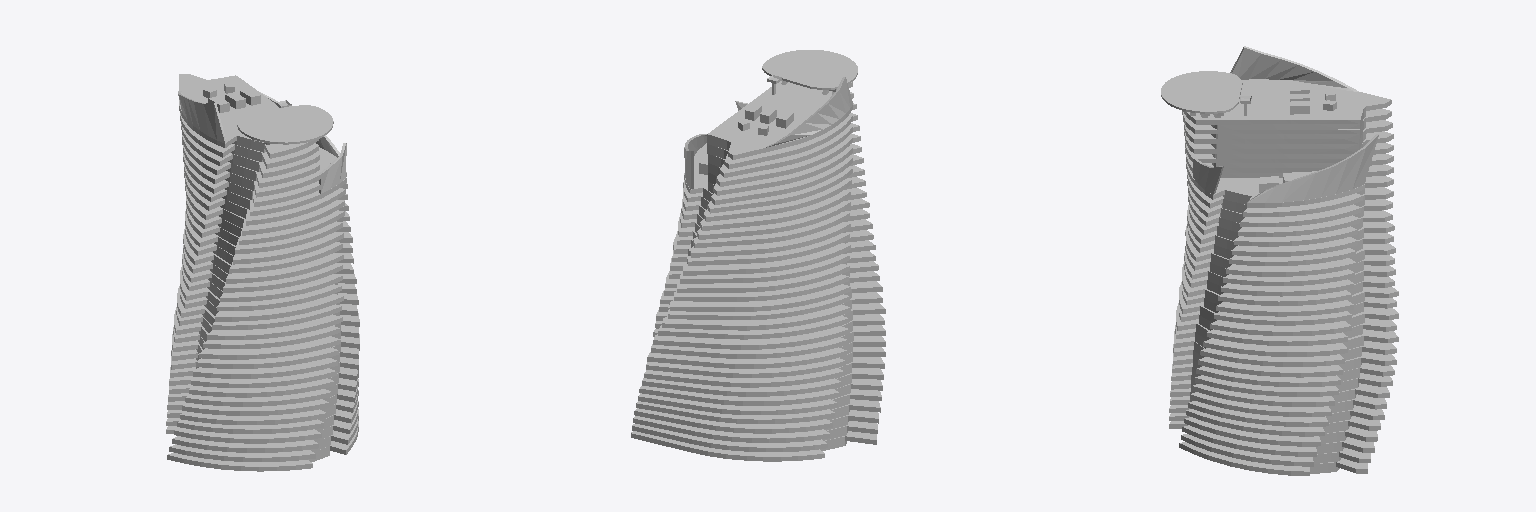
Rendered from Tower (1).obj.
The picture shows the model from 3 angles: view 1: azimuth 30°, elevation 25°; view 2: azimuth 150°, elevation 25°; view 3: azimuth 270°, elevation 25°; orthographic projection.
Visible parts, largest first — view 1: pCylinder34, pCylinder35, pCylinder13, pCylinder15, pCylinder11, pCylinder17, pCylinder4, pCylinder3, pCylinder21, pCylinder7, pCylinder9, pCylinder6 (+25 smaller); view 2: pCylinder34, pCylinder35, pCylinder13, pCylinder11, pCylinder15, pCylinder4, pCylinder3, pCylinder17, pCylinder7, pCylinder6, pCylinder9, pCylinder10 (+25 smaller); view 3: pCylinder34, pPlane1, pCylinder35, pCylinder13, pCylinder15, pCylinder17, pCylinder21, pCylinder11, pPlane4, pCylinder23, pCylinder12, pCylinder19 (+26 smaller).
Part boxes in pixels (bbox=[...]): pCylinder34: bbox=[179, 74, 318, 158]; pCylinder35: bbox=[237, 105, 333, 144]; pCylinder13: bbox=[174, 307, 359, 359]; pCylinder15: bbox=[177, 286, 358, 339]; pCylinder11: bbox=[172, 334, 359, 378]; pCylinder17: bbox=[180, 267, 356, 321]; pCylinder4: bbox=[167, 401, 357, 443]; pCylinder3: bbox=[167, 401, 358, 452]; pCylinder21: bbox=[183, 229, 352, 283]; pCylinder7: bbox=[169, 374, 358, 415]; pCylinder9: bbox=[171, 356, 358, 397]; pCylinder6: bbox=[169, 379, 358, 424]; pCylinder34: bbox=[707, 81, 852, 159]; pCylinder35: bbox=[762, 50, 857, 89]; pCylinder13: bbox=[653, 303, 885, 349]; pCylinder11: bbox=[647, 325, 885, 368]; pCylinder15: bbox=[660, 281, 882, 330]; pCylinder4: bbox=[634, 399, 880, 433]; pCylinder3: bbox=[633, 410, 878, 442]; pCylinder17: bbox=[665, 261, 878, 311]; pCylinder7: bbox=[639, 368, 883, 405]; pCylinder6: bbox=[638, 379, 882, 414]; pCylinder9: bbox=[644, 347, 885, 387]; pCylinder10: bbox=[646, 336, 885, 377]; pCylinder34: bbox=[1183, 79, 1391, 129]; pPlane1: bbox=[1247, 134, 1378, 202]; pCylinder35: bbox=[1161, 71, 1242, 113]; pCylinder13: bbox=[1176, 303, 1398, 356]; pCylinder15: bbox=[1179, 282, 1398, 335]; pCylinder17: bbox=[1182, 261, 1398, 316]; pCylinder21: bbox=[1185, 226, 1395, 276]; pCylinder11: bbox=[1174, 331, 1396, 377]; pPlane4: bbox=[1230, 46, 1358, 91]; pCylinder23: bbox=[1187, 205, 1394, 256]; pCylinder12: bbox=[1175, 325, 1396, 366]; pCylinder19: bbox=[1184, 251, 1395, 296].
Bounding box in the file's own units: 35.05 × 61.48 × 36.74.